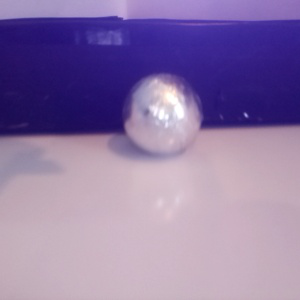zone: (1, 15, 300, 136)
